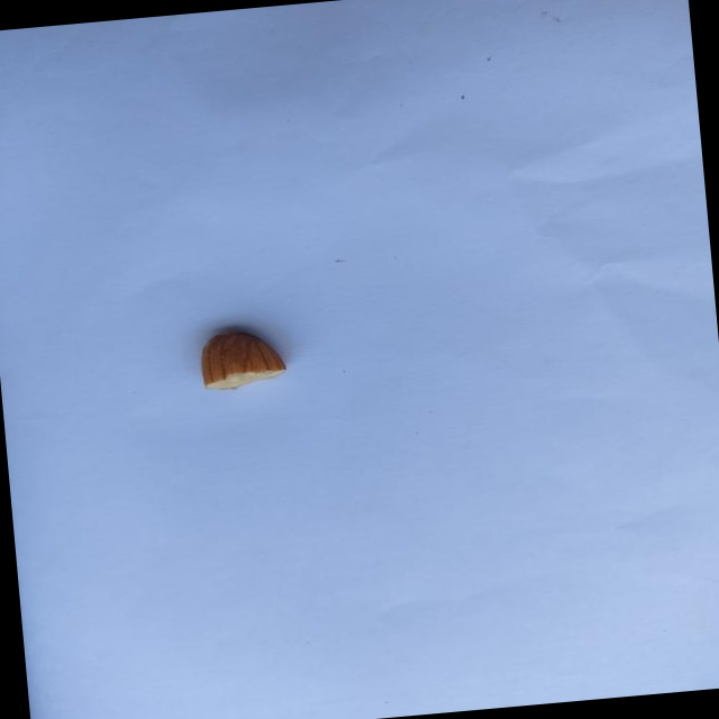grade4: (190, 318, 298, 397)
